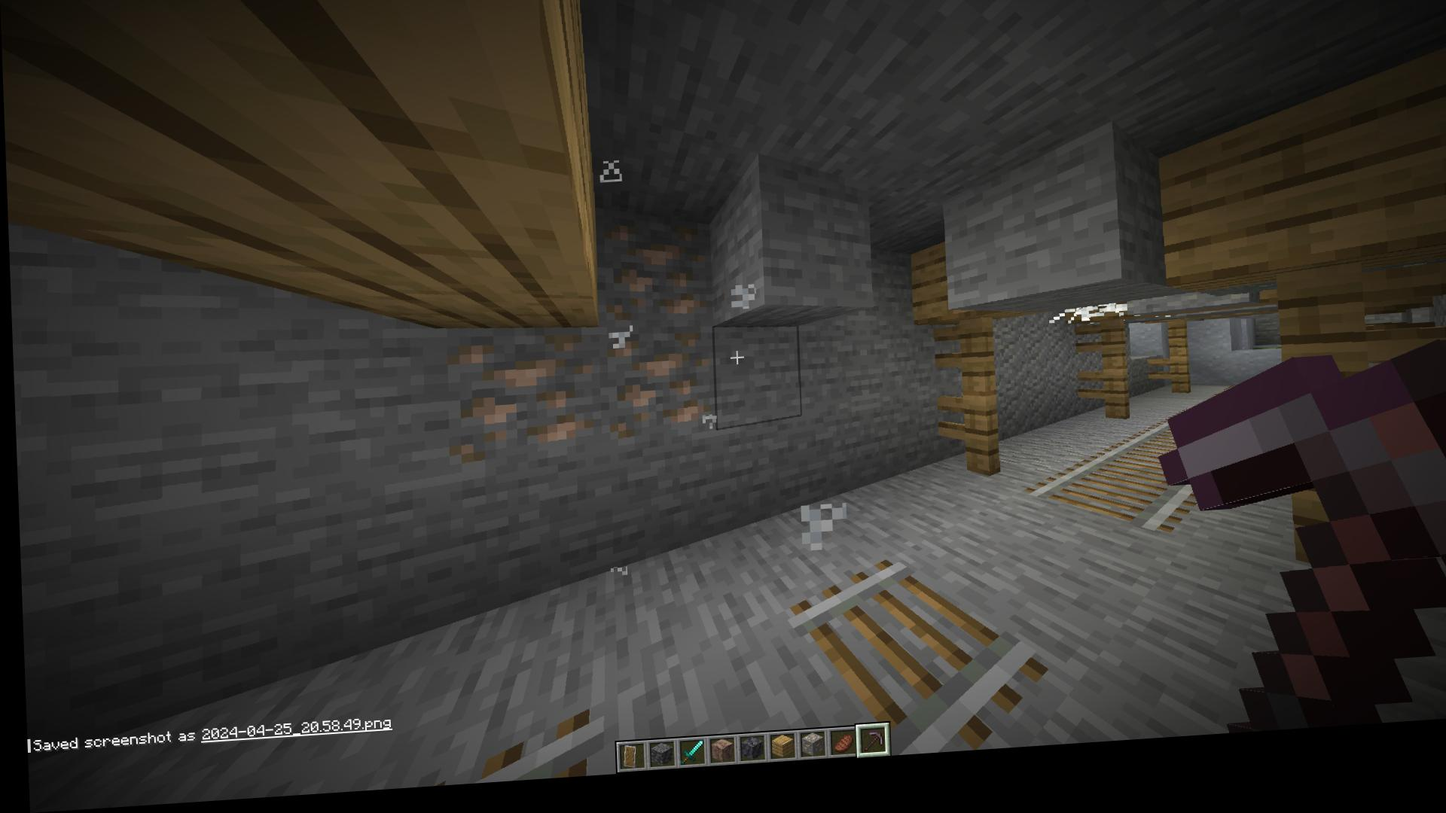iron ore: (444, 331, 594, 469), (587, 332, 716, 459), (594, 221, 712, 342)
